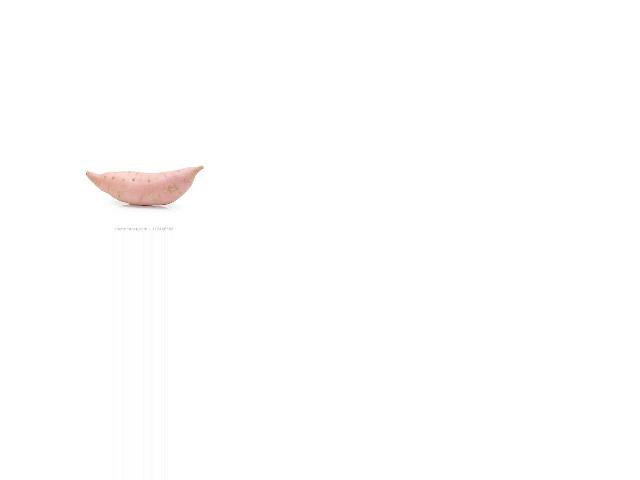sweet_potato: (84, 159, 204, 206)
